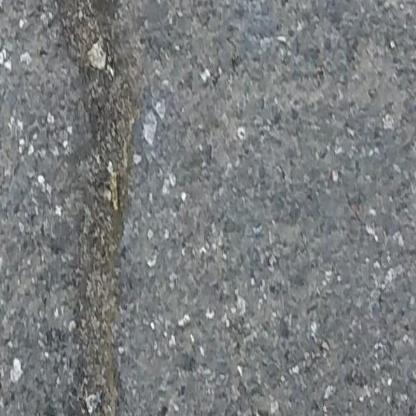Cracks: (50, 0, 144, 401)
